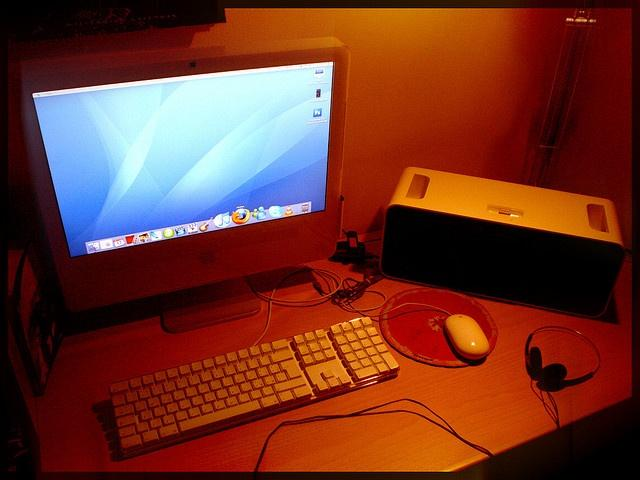AIO PC-Monitor-TV: (8, 44, 350, 333)
